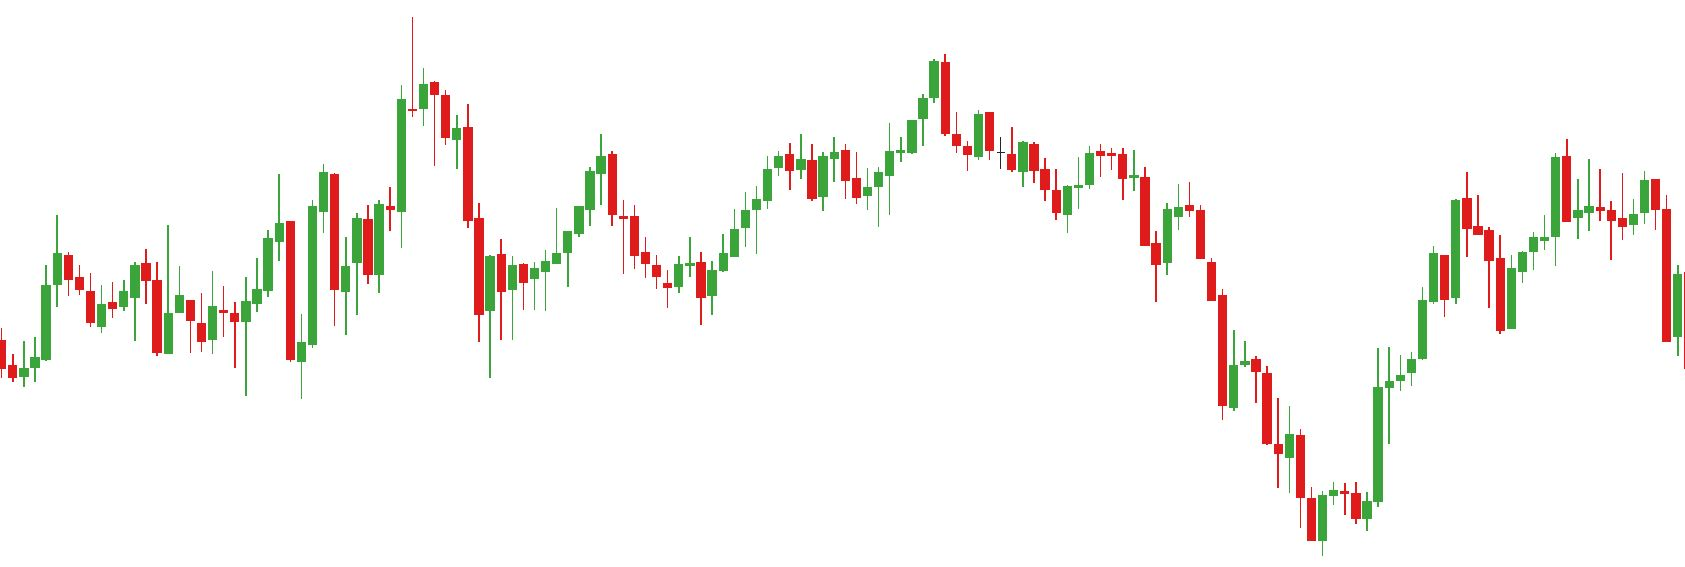buy: (339, 170, 496, 383), (819, 147, 888, 234)
sell: (1459, 127, 1575, 239)
